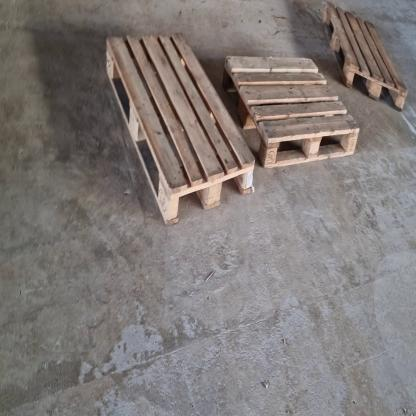BoxFace: (104, 29, 258, 232), (219, 55, 361, 174), (320, 0, 408, 115)
